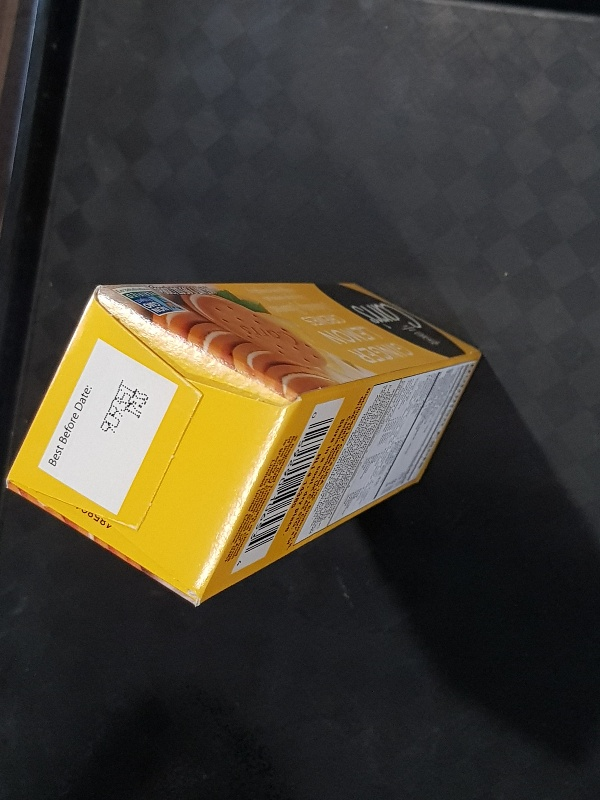Carr's Ginger Lemon Cremes: (5, 277, 482, 609)
